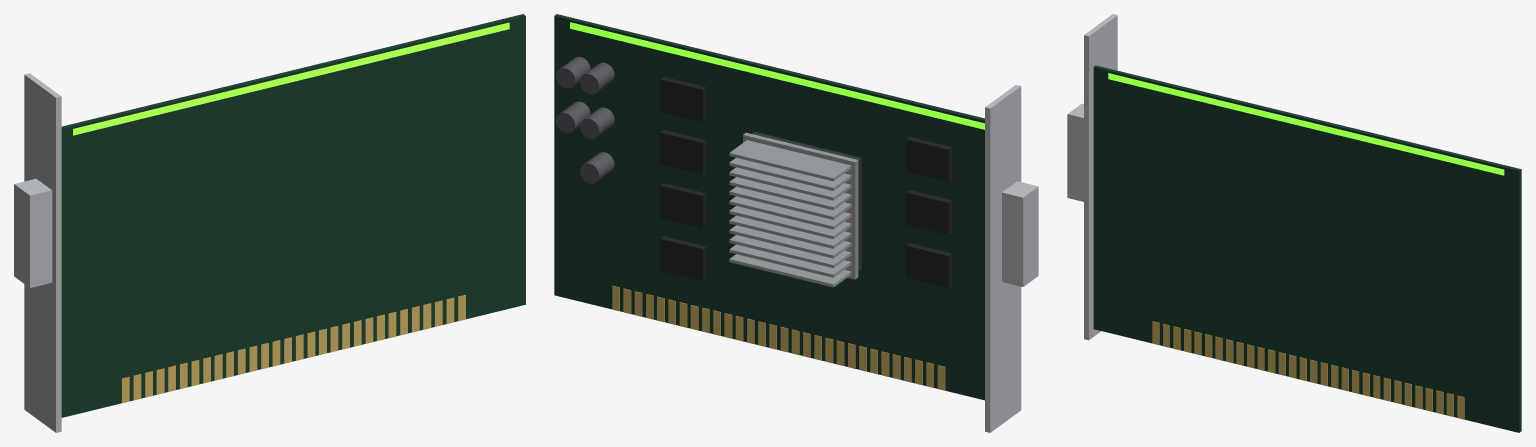
File: tier-card.glb
3 views of the same model, side by side, from view 1: azimuth 30°, elevation 25°; view 2: azimuth 150°, elevation 25°; view 3: azimuth 330°, elevation 25° (orthographic). The views are drawn at different scales.
Visible parts, largest first — view 1: PCB, Bracket, VGA_Port, Trim_Top; view 2: PCB, Bracket, VGA_Port, Trim_Top, Fin_11, Heatsink_Base, Memory_03, Memory_01, Memory_02, Memory_05, Memory_00, Memory_04 (+18 smaller); view 3: PCB, Bracket, Trim_Top, VGA_Port.
Part boxes in pixels (left/top/right/bottom): PCB: left=61, top=14, right=525, bottom=417; Bracket: left=24, top=73, right=61, bottom=432; VGA_Port: left=14, top=178, right=52, bottom=287; Trim_Top: left=73, top=22, right=509, bottom=135; PCB: left=554, top=14, right=984, bottom=400; Bracket: left=985, top=85, right=1021, bottom=432; VGA_Port: left=1002, top=181, right=1038, bottom=286; Trim_Top: left=570, top=22, right=984, bottom=129; Fin_11: left=729, top=140, right=851, bottom=181; Heatsink_Base: left=743, top=132, right=858, bottom=279; Memory_03: left=660, top=236, right=706, bottom=281; Memory_01: left=660, top=130, right=706, bottom=174; Memory_02: left=660, top=183, right=706, bottom=228; Memory_05: left=906, top=190, right=952, bottom=234; Memory_00: left=660, top=77, right=706, bottom=121; Memory_04: left=906, top=136, right=952, bottom=181; PCB: left=1093, top=65, right=1521, bottom=432; Bracket: left=1084, top=14, right=1117, bottom=340; Trim_Top: left=1108, top=73, right=1504, bottom=175; VGA_Port: left=1067, top=103, right=1083, bottom=201.
Size of the model in its own units: 18 by 11.6 by 2.2.
